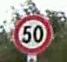limite 50: (11, 13, 53, 53)
